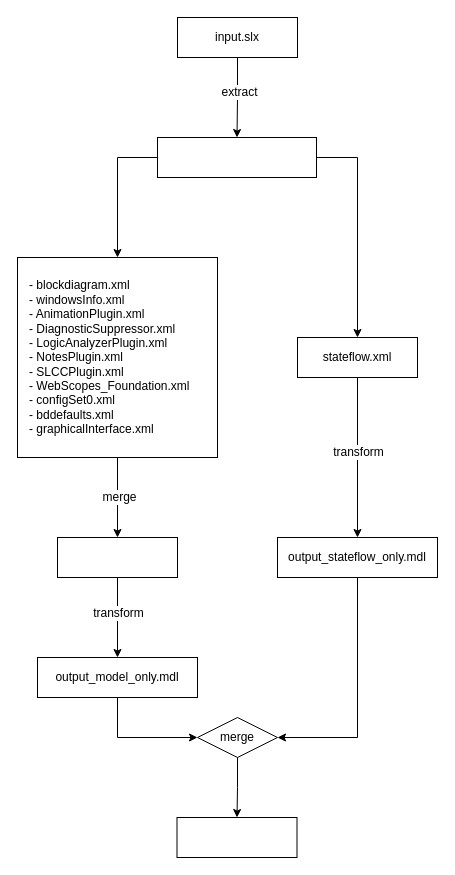
Image size: 455x875. Some labels were removed from this diagram. The centre of each missing label's shape, as x and y in pixels:
"extracted slx folder (contains mostly xml files)" belongs at point 236,157.
"merged.xml" belongs at point 117,557.
"output.mdl" belongs at point 236,837.
